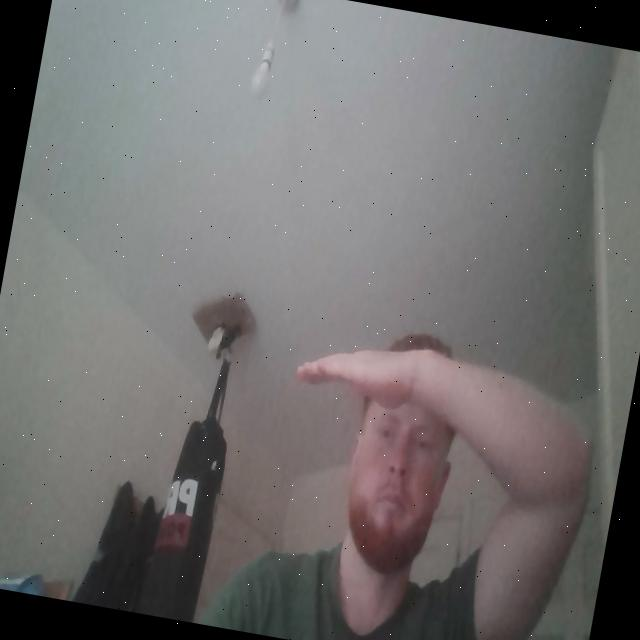papper: (289, 325, 462, 425)
